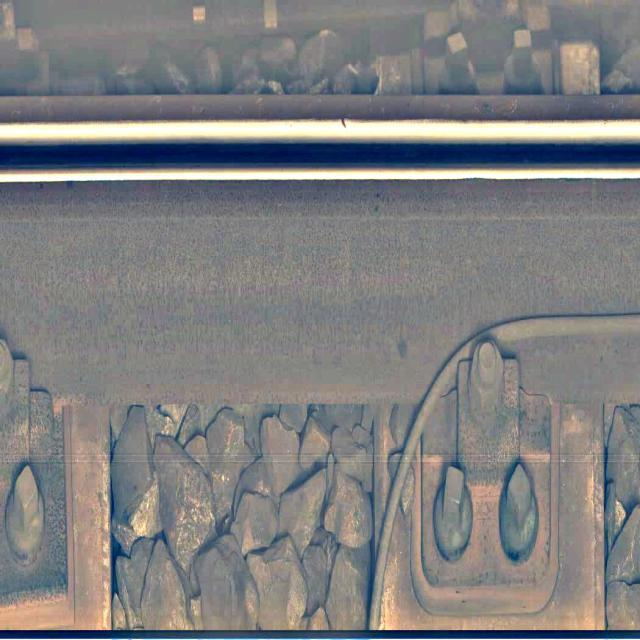Good Fasteners: (386, 335, 558, 617)
